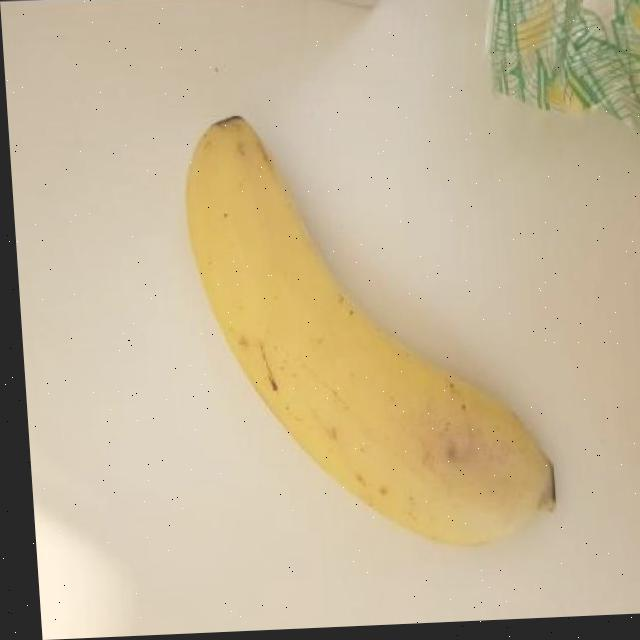banana: (164, 96, 567, 562)
